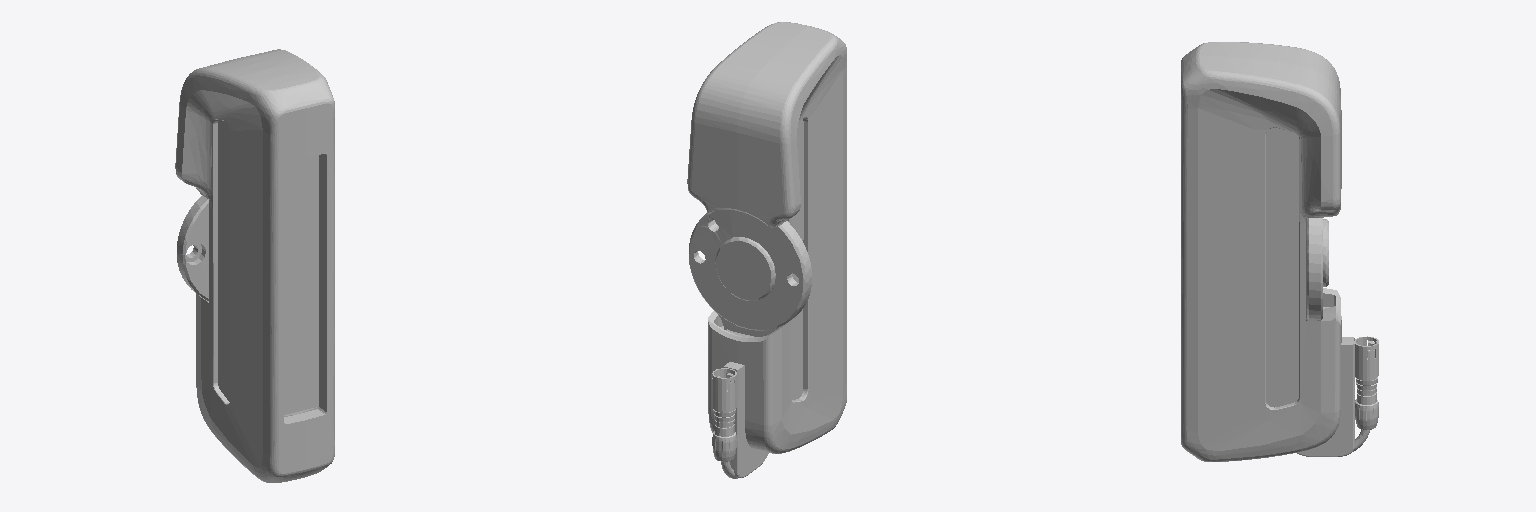
Rendered from panda_right_hand_geometry_panda_hand.obj.
The picture shows the model from 3 angles: view 1: azimuth 30°, elevation 25°; view 2: azimuth 150°, elevation 25°; view 3: azimuth 270°, elevation 25°; orthographic projection.
Size of the model in its own units: 0.063 by 0.2045 by 0.092.